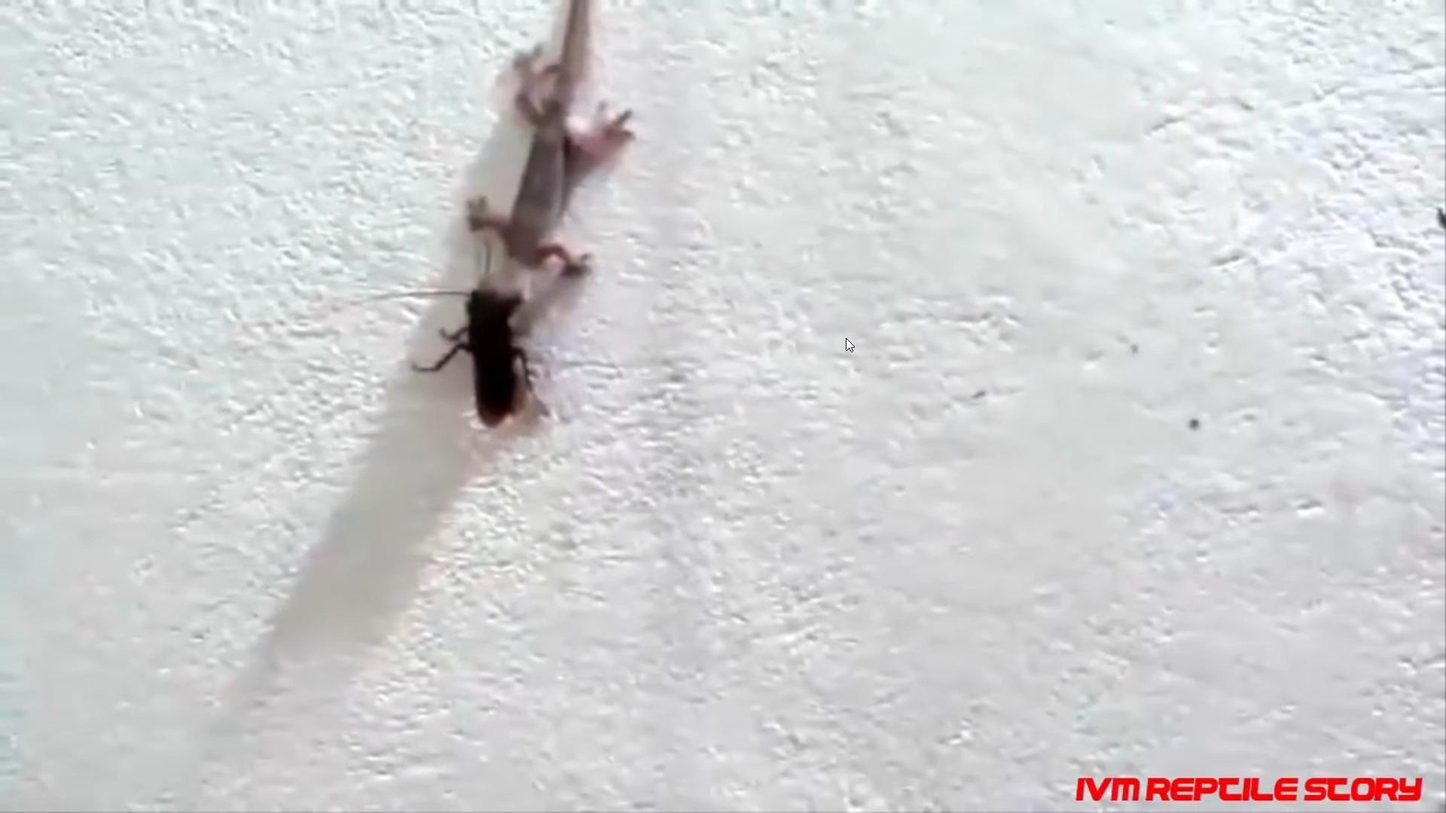cockroach: (448, 282, 533, 432)
lizard: (460, 16, 621, 320)
